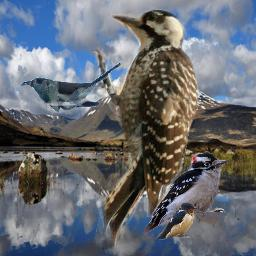Cuckoo: (21, 61, 125, 113)
Swallow: (154, 202, 197, 240)
Woodpecker: (89, 3, 200, 250), (144, 153, 228, 235)
